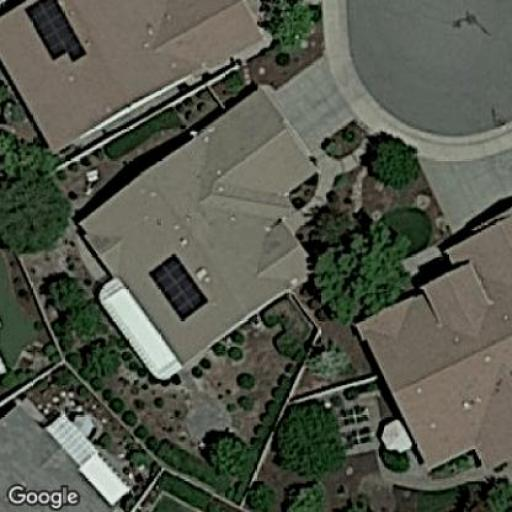solar-panel: (147, 251, 211, 323), (24, 0, 88, 62)
